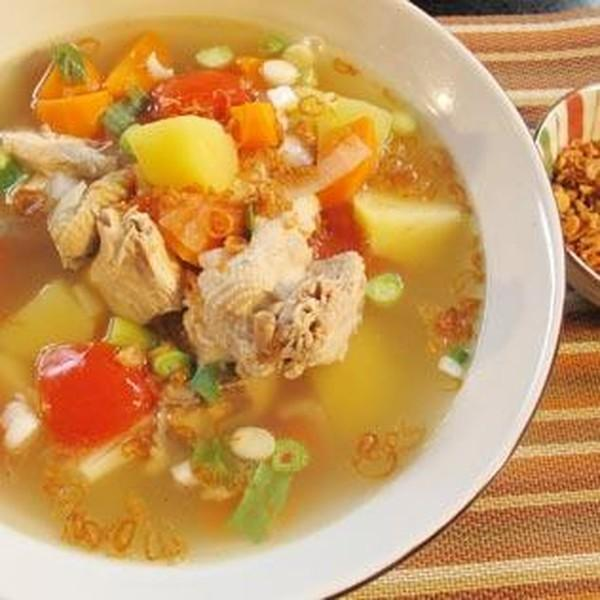buah_sayur_vitA: (48, 356, 135, 431)
daging: (206, 256, 348, 371), (93, 212, 165, 325)
